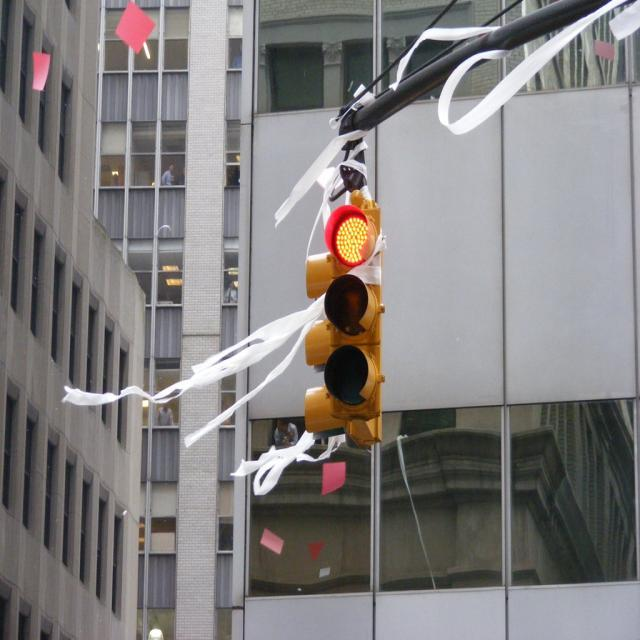traffic light: (323, 203, 388, 418)
